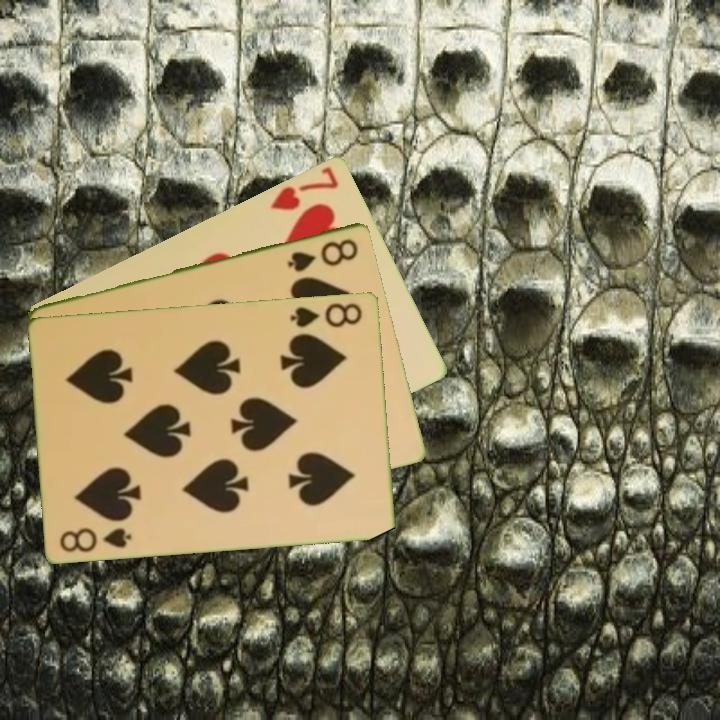7h: (266, 162, 342, 213)
8s: (284, 235, 362, 275), (56, 523, 135, 555), (287, 298, 365, 330)
